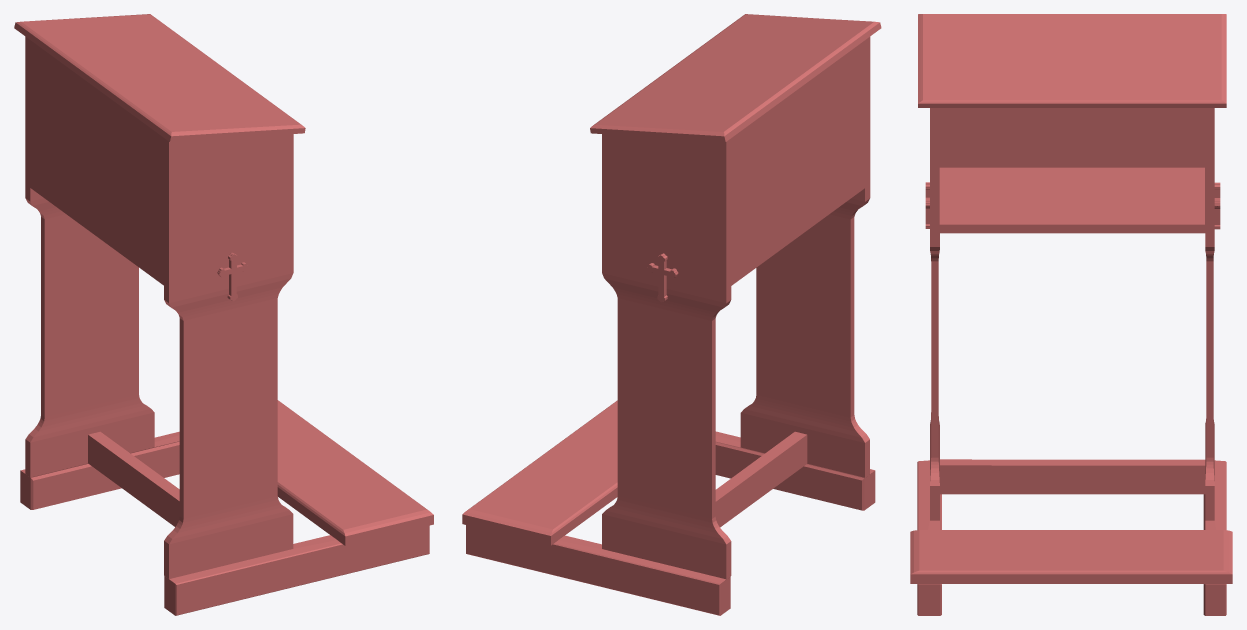
Rendered from PrayerKneeler.fbx.
3 renders of one model, left to right at view 1: azimuth 30°, elevation 25°; view 2: azimuth 150°, elevation 25°; view 3: azimuth 270°, elevation 25°, orthographic.
Parts seen in each view (by area): view 1: PrayerDesk; view 2: PrayerDesk; view 3: PrayerDesk.
Boxes of the visible parts, left/top/right/bottom form: PrayerDesk: left=14, top=14, right=433, bottom=615; PrayerDesk: left=462, top=14, right=881, bottom=615; PrayerDesk: left=910, top=14, right=1232, bottom=615.
Bounding box in the file's own units: 418 × 741 × 452.
